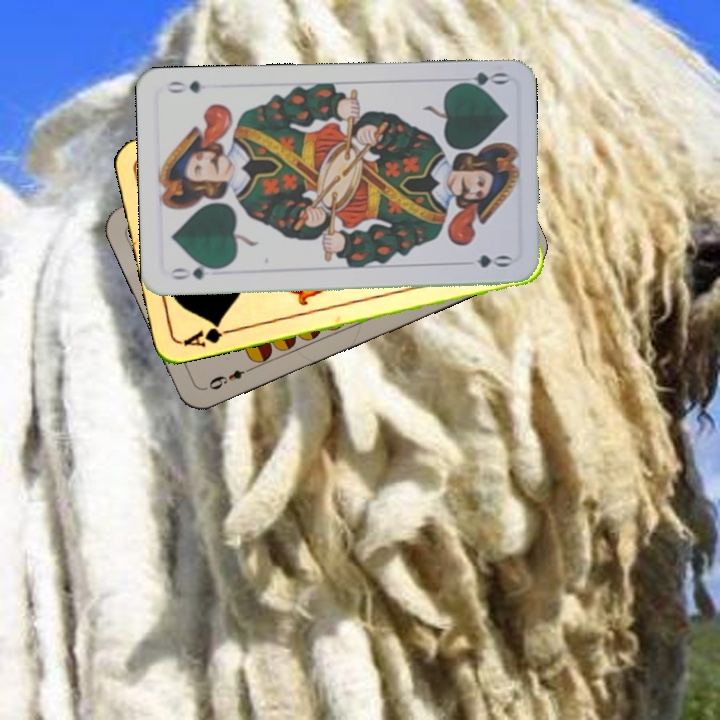E9: (201, 362, 257, 393)
GA: (179, 317, 237, 350)
GO: (451, 68, 510, 93), (167, 259, 224, 282)
